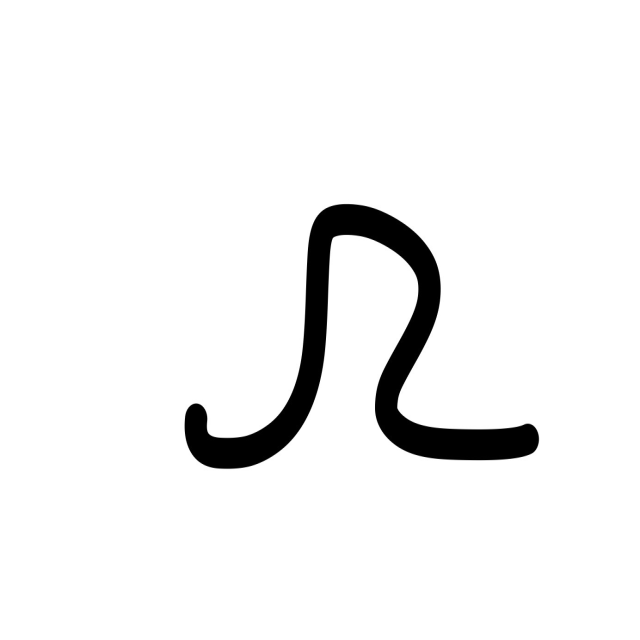ohms: (125, 80, 565, 524)
